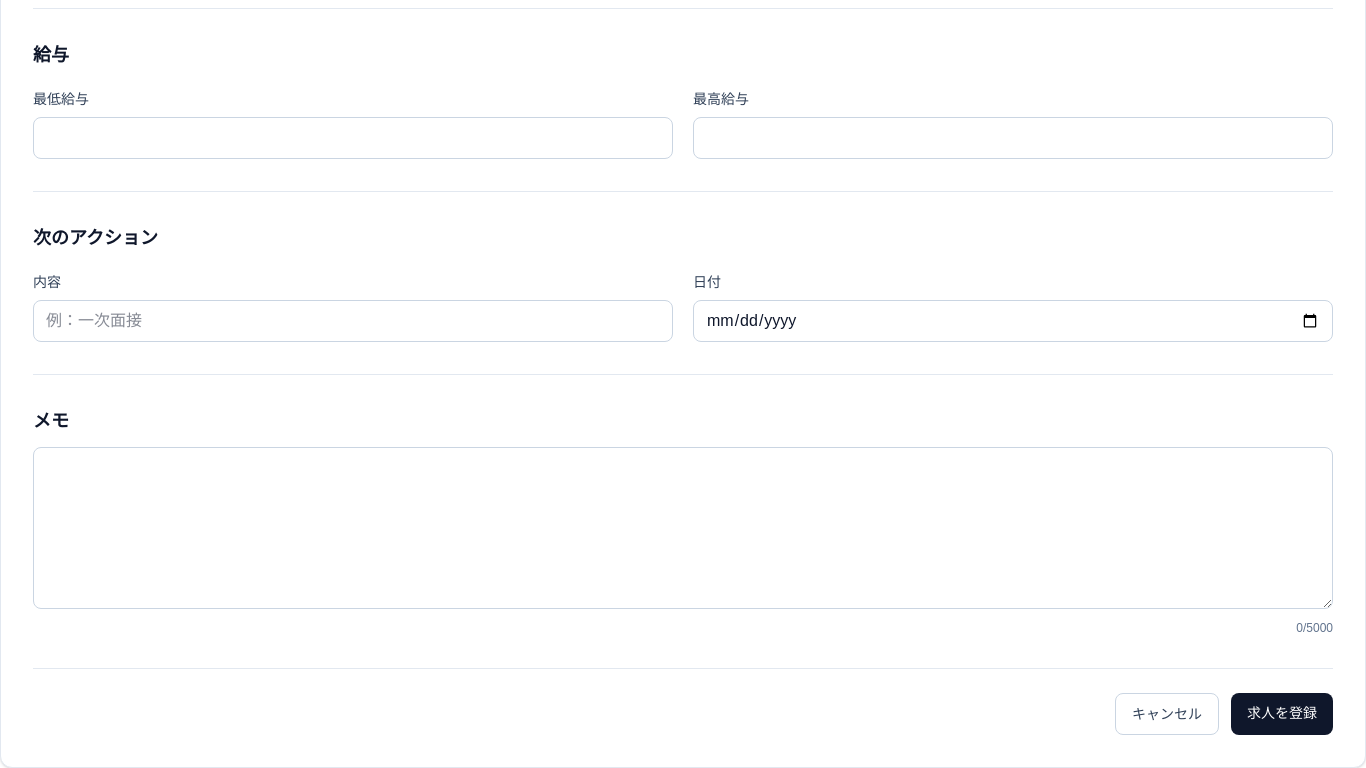
it: JobForm › 企業名と職種が未入力の場合はエラーを表示する
(page scrolled)
Click the button "求人を登録" at coordinates (1282, 714), box [1231,693,1333,735]
(page scrolled)
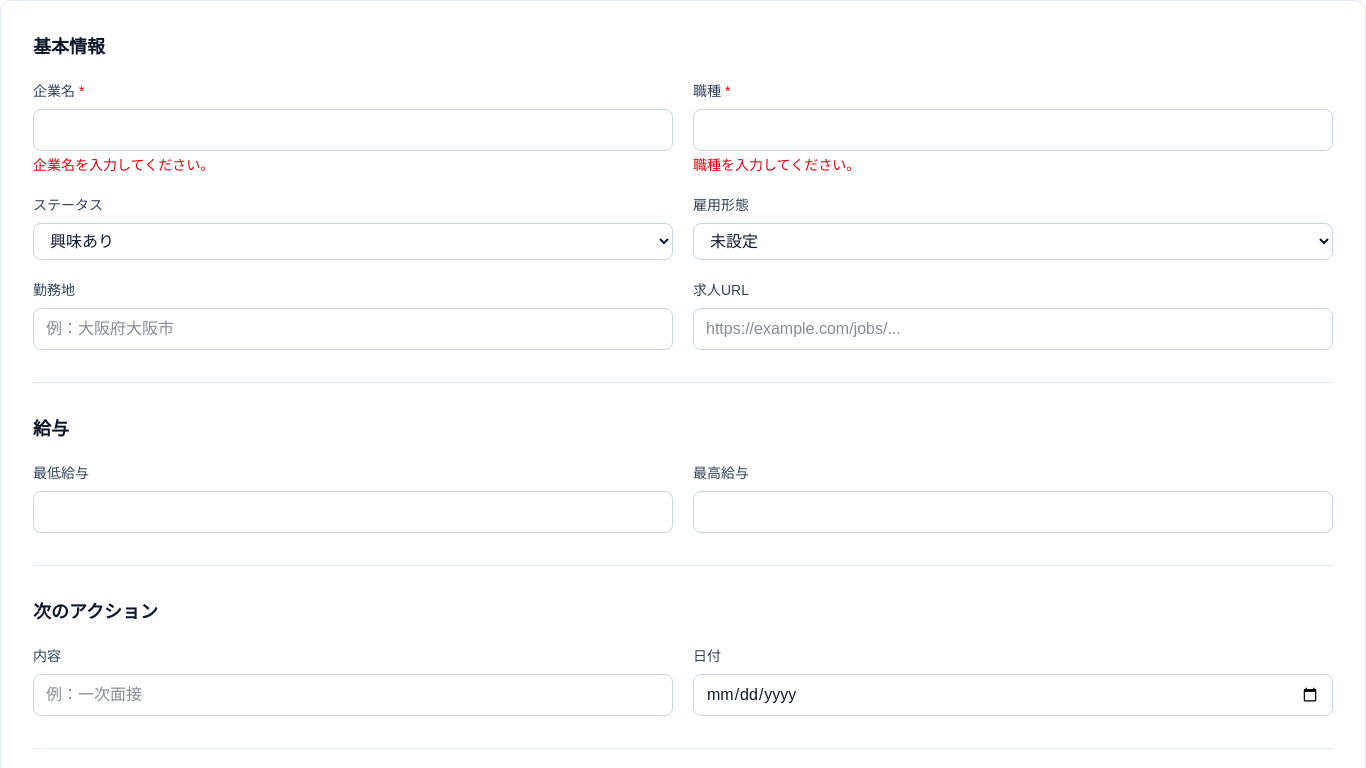
Expected: the text "企業名を入力してください。" is shown, [33,157,214,173]
Expected: the text "職種を入力してください。" is shown, [693,157,860,173]
